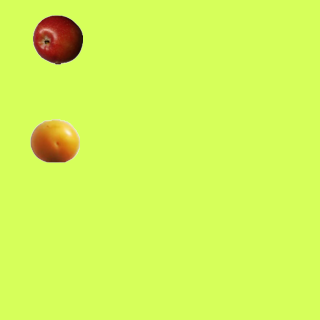Apple Braeburn: (32, 14, 82, 64)
Cherry Wax Yellow: (29, 115, 79, 165)
